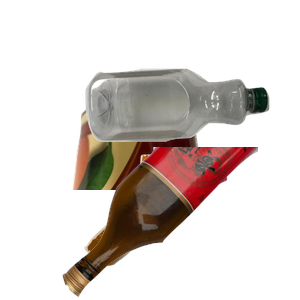glass: (60, 147, 300, 300)
metal: (69, 93, 265, 273)
plastic: (83, 66, 300, 201)
trash: (82, 151, 260, 300)
